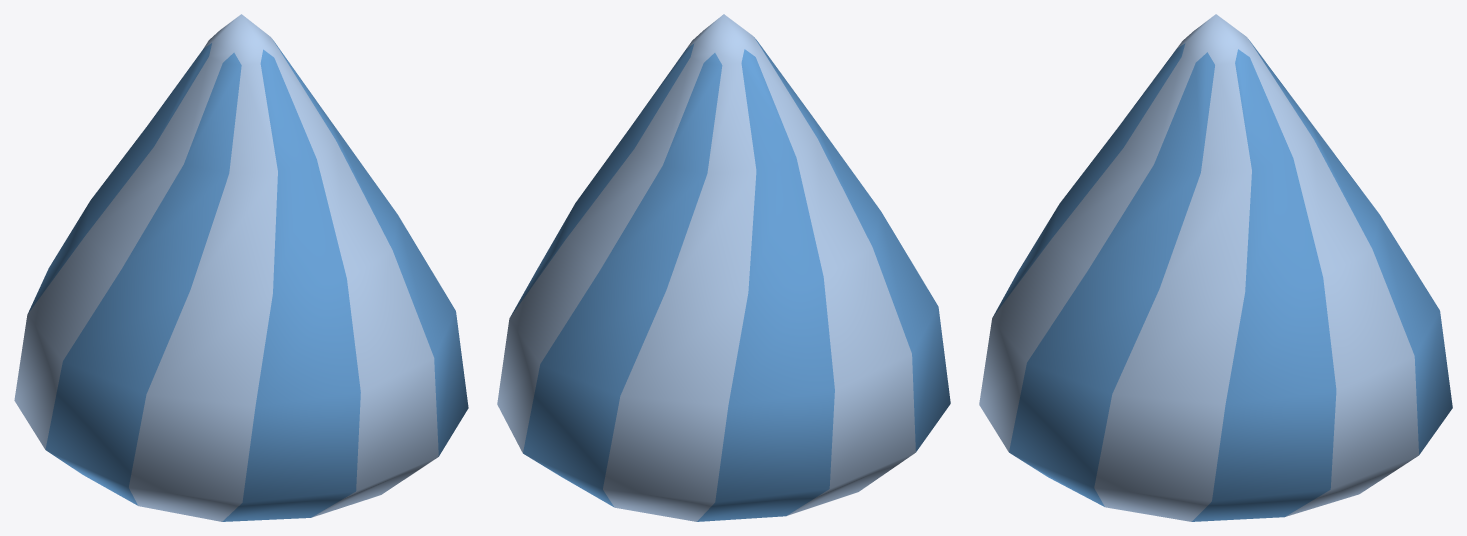
File: candy_assets4.fbx
3 views of the same model, side by side, from view 1: azimuth 30°, elevation 25°; view 2: azimuth 150°, elevation 25°; view 3: azimuth 270°, elevation 25° (orthographic).
Visible parts, largest first — view 1: candy_assets4; view 2: candy_assets4; view 3: candy_assets4.
Part boxes in pixels (x1=…): candy_assets4: x1=14, y1=14, x2=468, y2=521; candy_assets4: x1=497, y1=14, x2=950, y2=521; candy_assets4: x1=979, y1=14, x2=1452, y2=521.
Size of the model in its own units: 307 by 330 by 323.
Materials: 1 (1 with a texture image).
